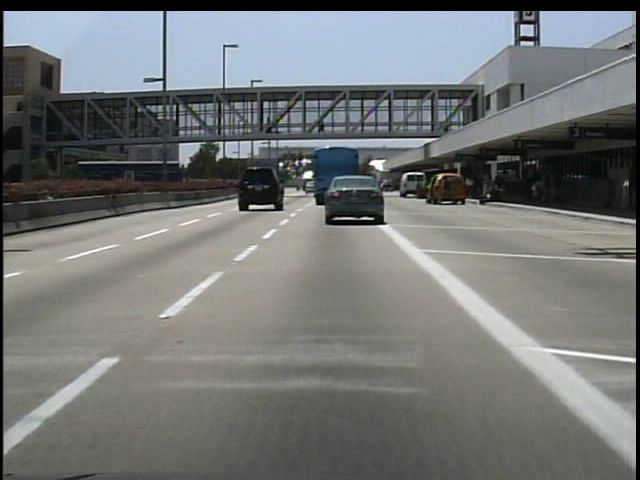person: (439, 177, 457, 212), (315, 115, 329, 141), (262, 114, 277, 136)
